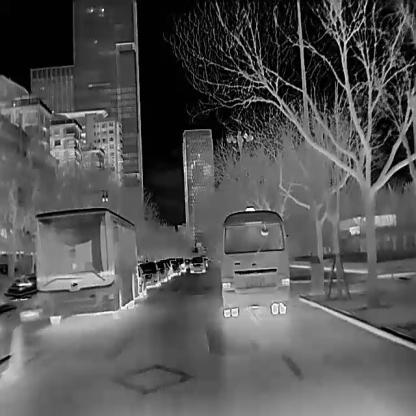car: (32, 206, 138, 323), (218, 203, 290, 316), (0, 291, 25, 379), (141, 261, 159, 290), (188, 255, 205, 273), (136, 264, 145, 293), (157, 261, 166, 283)
